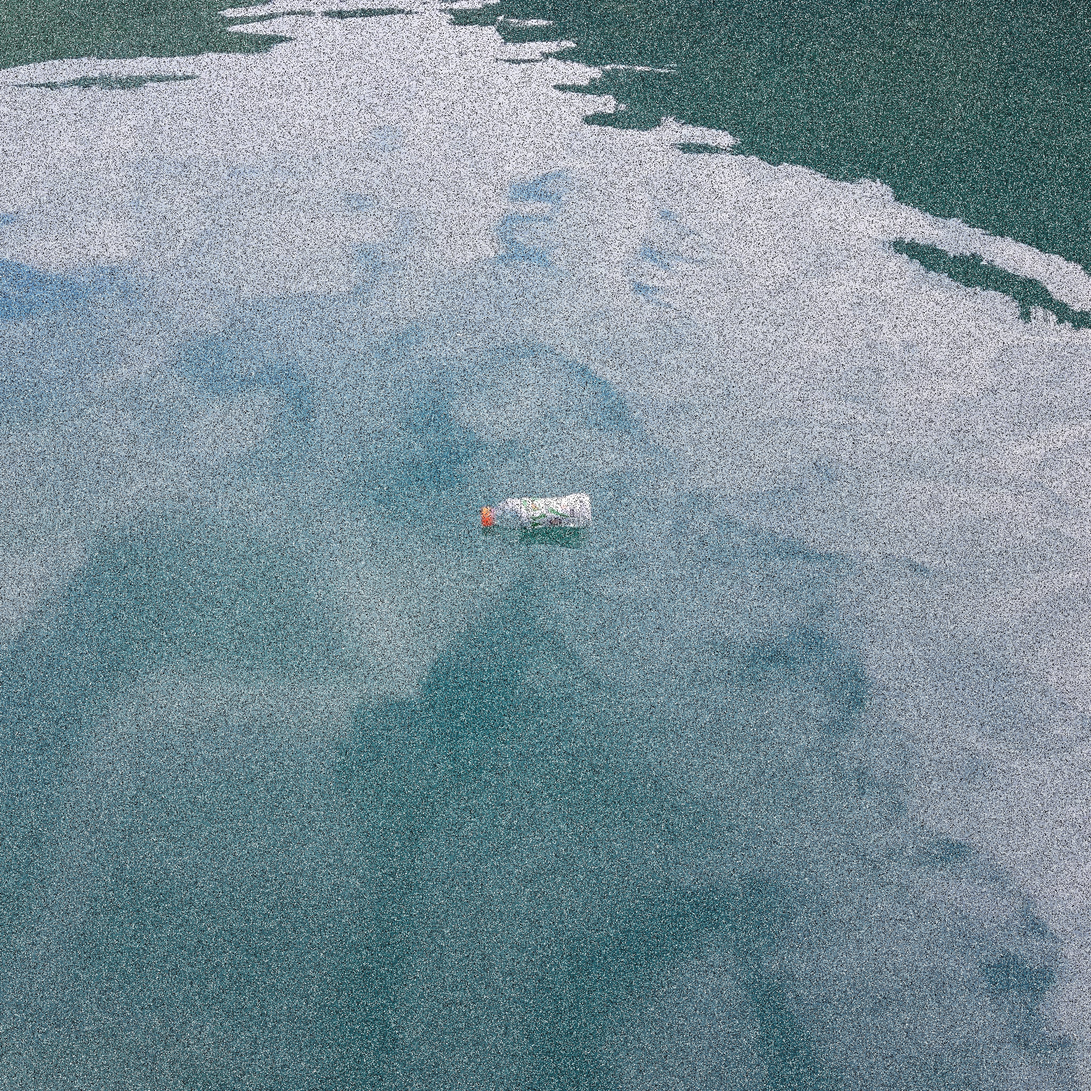sampah_terapung: (482, 493, 592, 531)
